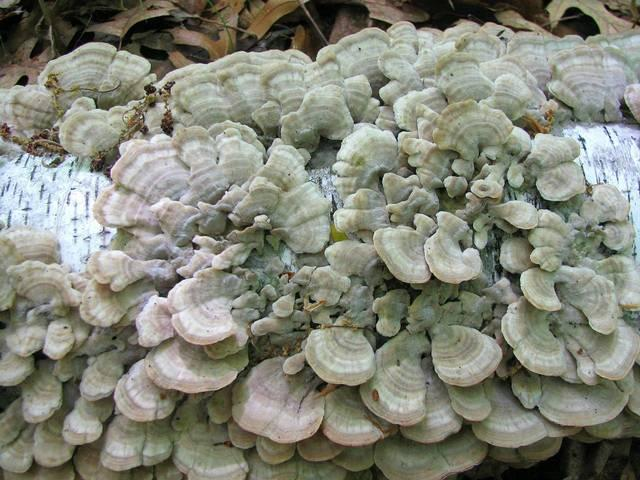Non-edible Mushroom: (1, 18, 637, 478)
